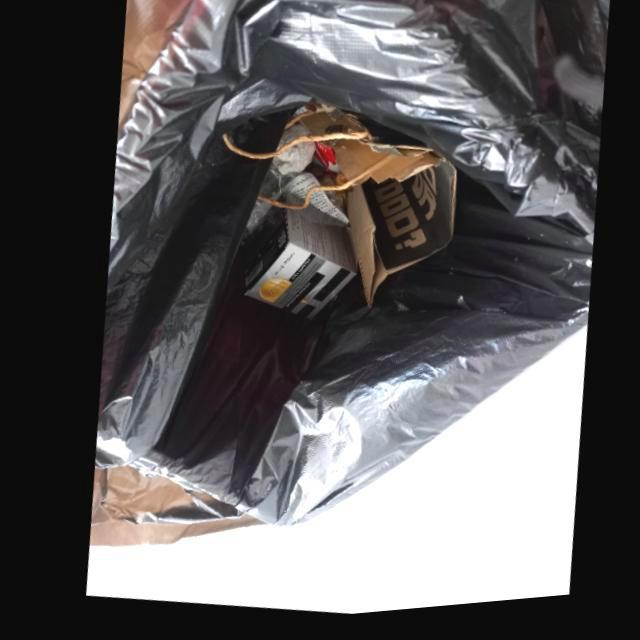cardboard: (239, 210, 352, 324)
paper: (291, 107, 453, 313)
